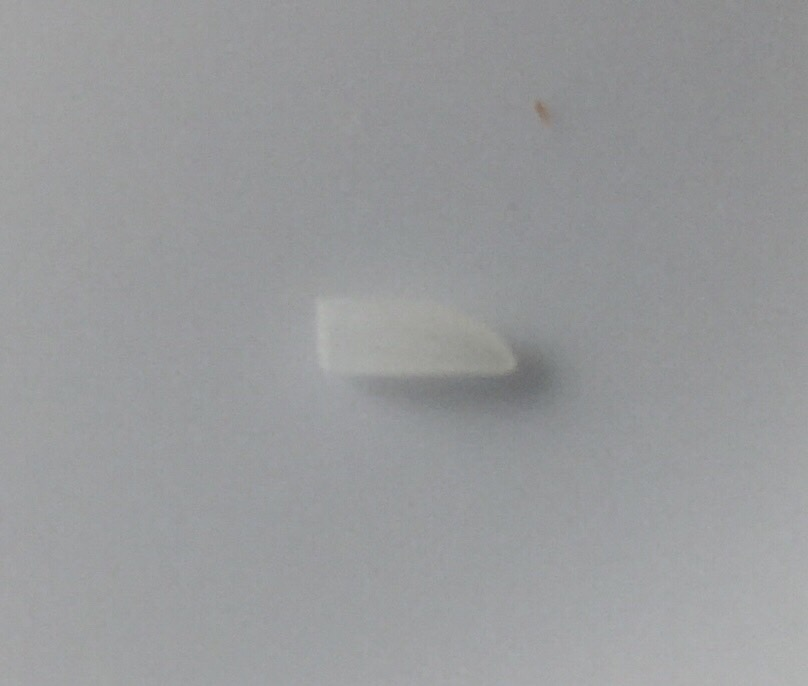Gao Tam: (319, 282, 532, 399)
